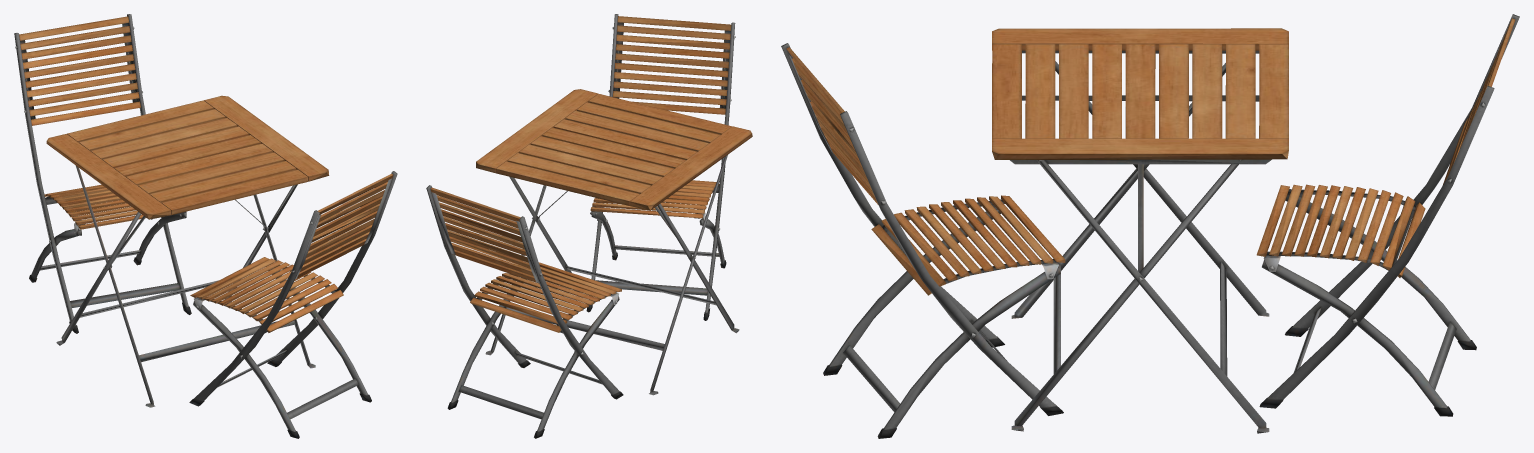
File: outdoor_table_chair_set_01.glb
3 views of the same model, side by side, from view 1: azimuth 30°, elevation 25°; view 2: azimuth 150°, elevation 25°; view 3: azimuth 270°, elevation 25° (orthographic). The views are drawn at different scales.
Parts seen in each view (by area): view 1: outdoor_table_chair_set_01_table, outdoor_table_chair_set_01_chair_01, outdoor_table_chair_set_01_chair_02; view 2: outdoor_table_chair_set_01_table, outdoor_table_chair_set_01_chair_02, outdoor_table_chair_set_01_chair_01; view 3: outdoor_table_chair_set_01_table, outdoor_table_chair_set_01_chair_01, outdoor_table_chair_set_01_chair_02.
Part boxes in pixels (left/top/right/bottom): outdoor_table_chair_set_01_table: left=46, top=95, right=329, bottom=407; outdoor_table_chair_set_01_chair_01: left=189, top=171, right=397, bottom=438; outdoor_table_chair_set_01_chair_02: left=14, top=14, right=191, bottom=333; outdoor_table_chair_set_01_table: left=476, top=89, right=752, bottom=395; outdoor_table_chair_set_01_chair_02: left=426, top=185, right=623, bottom=438; outdoor_table_chair_set_01_chair_01: left=586, top=14, right=735, bottom=320; outdoor_table_chair_set_01_table: left=992, top=28, right=1288, bottom=433; outdoor_table_chair_set_01_chair_01: left=781, top=43, right=1065, bottom=438; outdoor_table_chair_set_01_chair_02: left=1256, top=14, right=1519, bottom=416.
Bounding box in the file's own units: 0.7415 × 0.8589 × 1.72.
2 materials, 2 textured.
